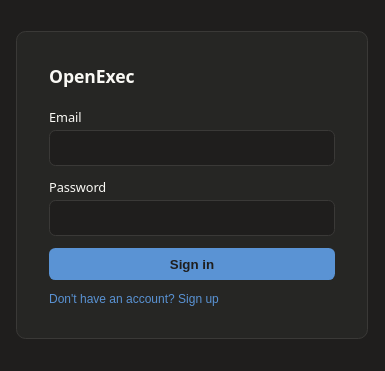
Test: LoginPage › surfaces a rejected sign-in instead of failing silently
Step 1. Type "vedant@example.com" into the field labelled "Email" → coordinates (192, 148), box [49,130,335,166]
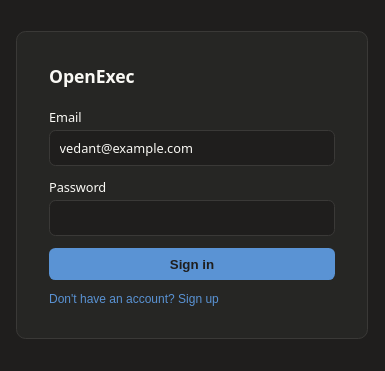
Step 2. Type "wrong-password" into the password field labelled "Password" → coordinates (192, 218), box [49,200,335,236]
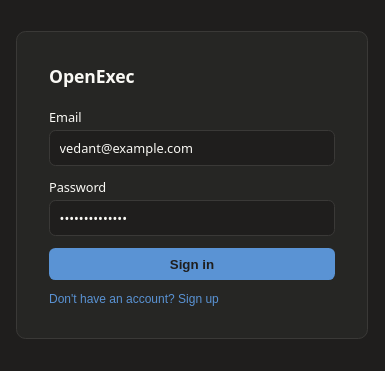
Step 3. Click the button "Sign in" → coordinates (192, 264), box [49,248,335,280]
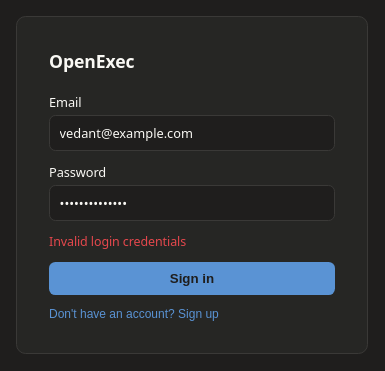
expect the text "Invalid login credentials" is shown: met, box [49,233,186,250]
